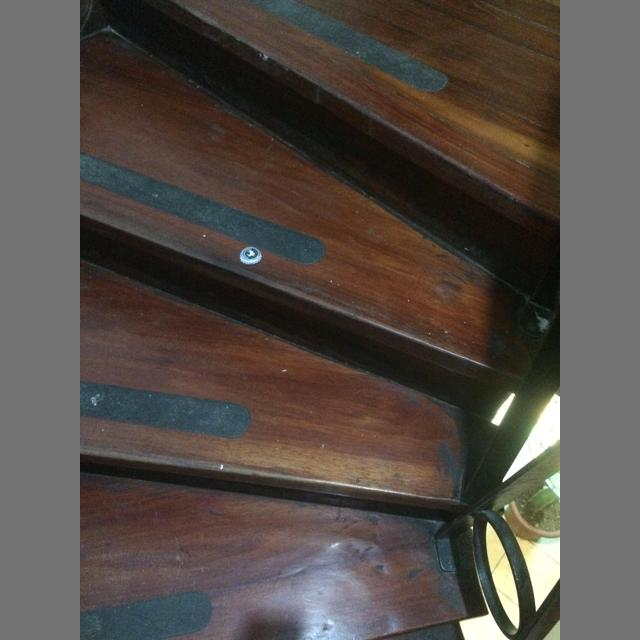litter: (240, 247, 262, 264)
